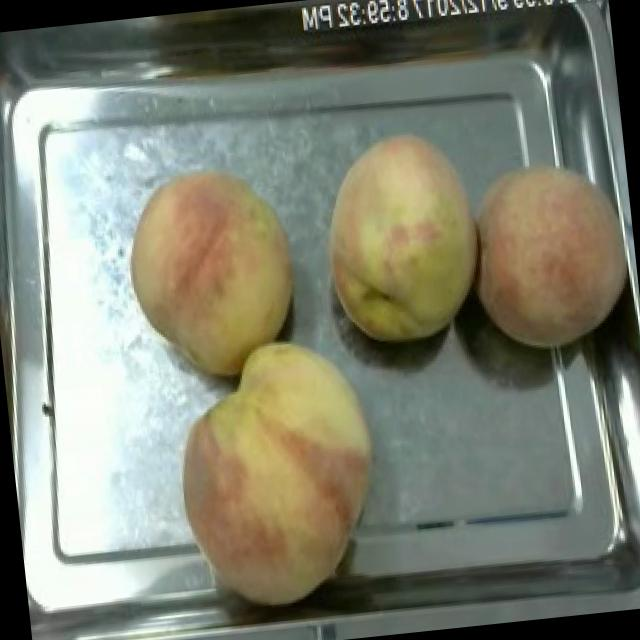Fruit: (156, 322, 402, 626), (111, 150, 314, 394), (306, 119, 496, 359), (454, 142, 636, 362)
